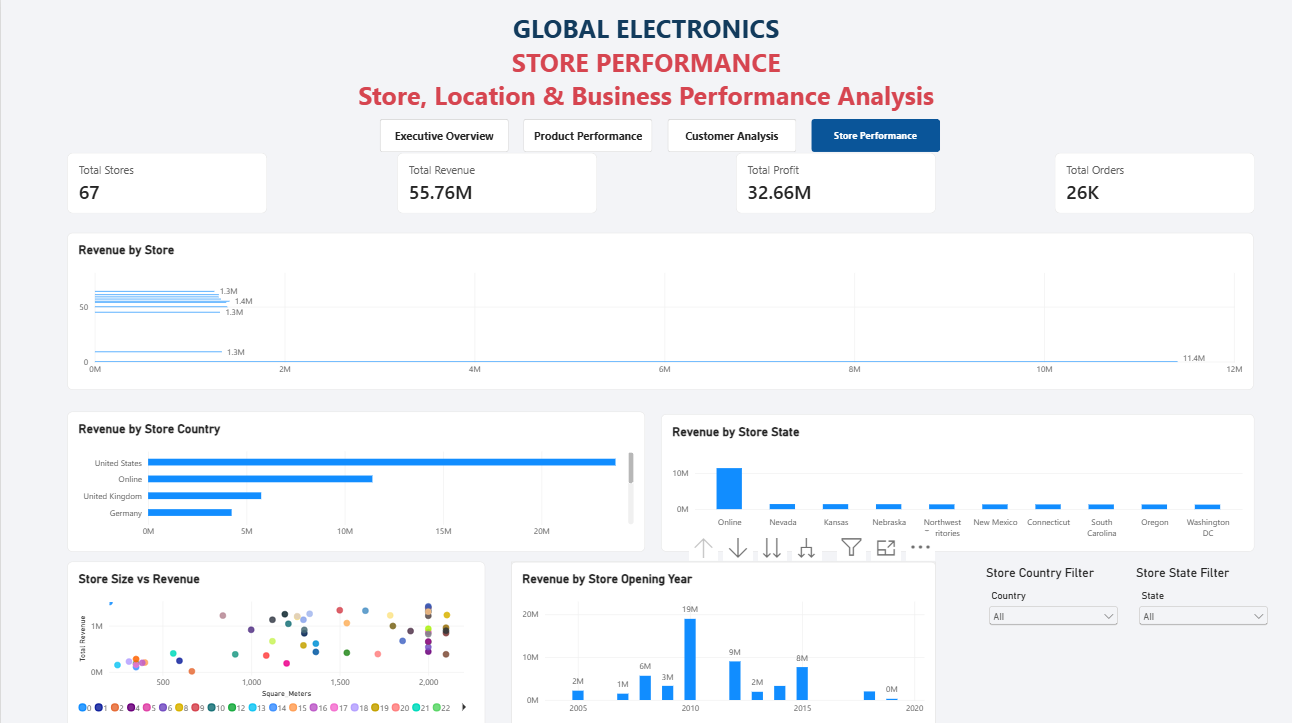

This screenshot's page, from the dashboard's own definition file:
{"tool":"powerbi","page":{"name":"Store Performance","canvas":[1920,1080],"ordinal":3},"visuals":[{"type":"textbox","box":[10.3,0,1889.5,168.8],"z":0},{"type":"cardVisual","fields":{"Data":["_All_Measures.Total Stores"]},"box":[98.8,228.5,296.4,90.6],"z":1000},{"type":"cardVisual","fields":{"Data":["_All_Measures.Total Revenue"]},"box":[586.6,228.5,296.4,90.6],"z":2000},{"type":"cardVisual","fields":{"Data":["_All_Measures.Total Profit"]},"box":[1088.9,228.5,296.4,90.6],"z":3000},{"type":"cardVisual","fields":{"Data":["_All_Measures.Total Orders"]},"box":[1560.2,228.5,296.4,90.6],"z":4000},{"type":"clusteredBarChart","title":"Revenue by Store","fields":{"Category":["global_electronics stores.StoreKey"],"Y":["_All_Measures.Total Revenue"]},"box":[98.8,345.8,1757.8,232.6],"z":5000},{"type":"clusteredBarChart","title":"Revenue by Store Country","fields":{"Category":["global_electronics stores.Country"],"Y":["_All_Measures.Total Revenue"]},"box":[98.8,611.3,856.3,207.9],"z":6000},{"type":"clusteredColumnChart","title":"Revenue by Store State","fields":{"Category":["global_electronics stores.State"],"Y":["_All_Measures.Total Revenue"]},"box":[977.7,615.4,878.9,203.8],"z":7000},{"type":"scatterChart","title":"Store Size vs Revenue","fields":{"Series":["global_electronics stores.StoreKey"],"X":["global_electronics stores.Square_Meters"],"Y":["_All_Measures.Total Revenue"]},"box":[98.8,833.6,619.6,247],"z":8000},{"type":"clusteredColumnChart","title":"Revenue by Store Opening Year","fields":{"Category":["global_electronics stores.Open_Date.Variation.Date Hierarchy.Year","global_electronics stores.Open_Date.Variation.Date Hierarchy.Quarter","global_electronics stores.Open_Date.Variation.Date Hierarchy.Month","global_electronics stores.Open_Date.Variation.Date Hierarchy.Day"],"Y":["_All_Measures.Total Revenue"]},"box":[755.4,833.6,629.8,247],"z":9000},{"type":"slicer","title":"Store Country Filter","fields":{"Values":["global_electronics stores.Country"]},"box":[1459.4,839.8,200,100],"z":10000},{"type":"slicer","title":"Store State Filter","fields":{"Values":["global_electronics stores.State"]},"box":[1681.7,839.8,200,100],"z":11000},{"type":"pageNavigator","box":[561.9,177,832.3,49.9],"z":17000}]}

Visuals, with their boxes in screenshot pixels (x1, y1, x2, y2), scaled from the page's 1920x1080 canvas onto the 1292x723 screenshot:
textbox: <bbox>7, 0, 1278, 113</bbox>
cardVisual - _All_Measures.Total Stores: <bbox>66, 153, 266, 214</bbox>
cardVisual - _All_Measures.Total Revenue: <bbox>395, 153, 594, 214</bbox>
cardVisual - _All_Measures.Total Profit: <bbox>733, 153, 932, 214</bbox>
cardVisual - _All_Measures.Total Orders: <bbox>1050, 153, 1249, 214</bbox>
"Revenue by Store" clusteredBarChart: <bbox>66, 231, 1249, 387</bbox>
"Revenue by Store Country" clusteredBarChart: <bbox>66, 409, 643, 548</bbox>
"Revenue by Store State" clusteredColumnChart: <bbox>658, 412, 1249, 548</bbox>
"Store Size vs Revenue" scatterChart: <bbox>66, 558, 483, 722</bbox>
"Revenue by Store Opening Year" clusteredColumnChart: <bbox>508, 558, 932, 722</bbox>
"Store Country Filter" slicer: <bbox>982, 562, 1117, 629</bbox>
"Store State Filter" slicer: <bbox>1132, 562, 1266, 629</bbox>
pageNavigator: <bbox>378, 118, 938, 152</bbox>
